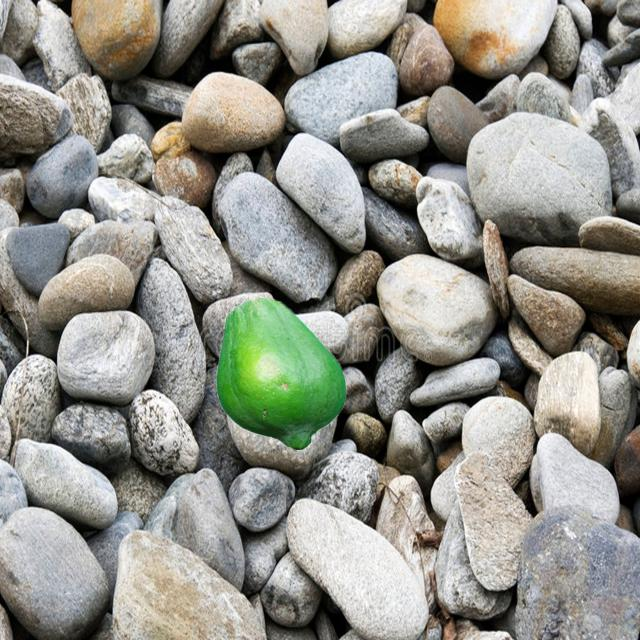Pepaya unrippen: (202, 290, 348, 453)
